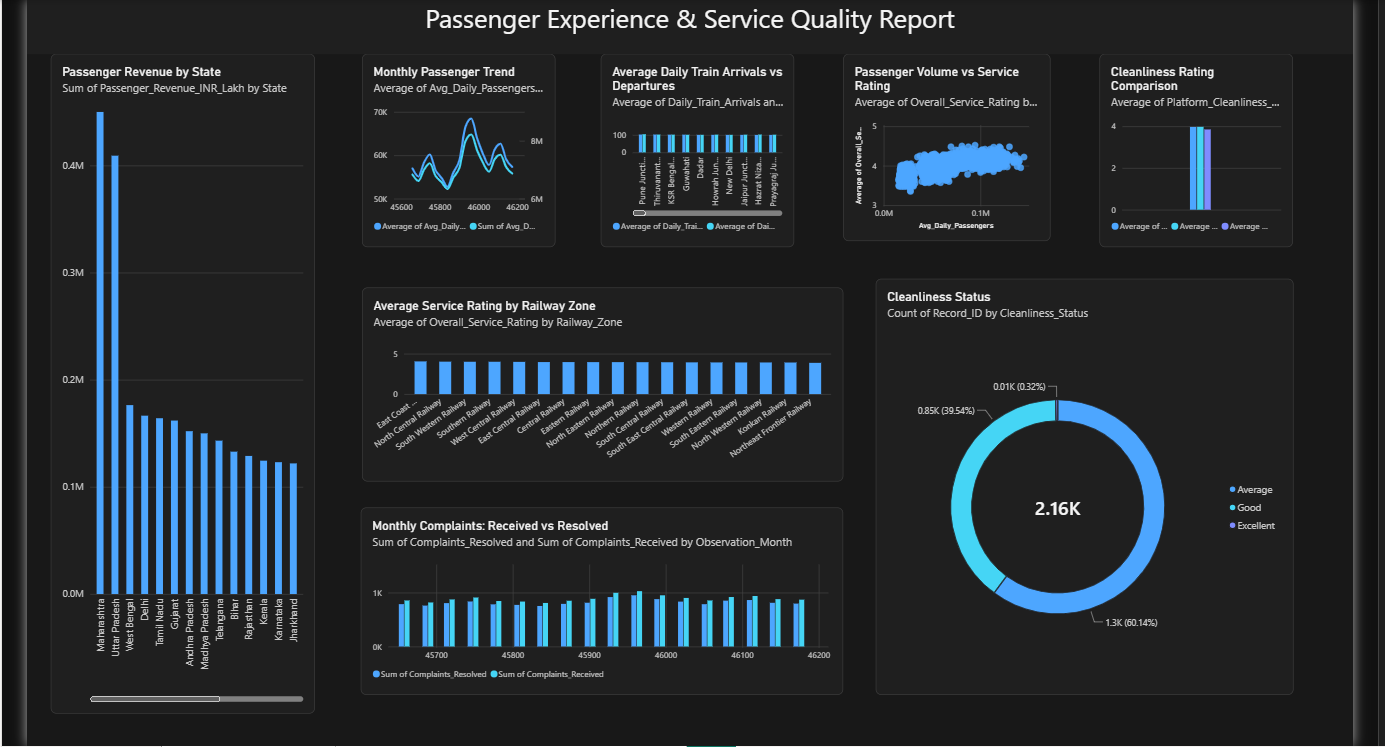

The dashboard page shown, as its layout file describes it:
{"tool":"powerbi","page":{"name":"Passenger Experience & Service Quality Report","canvas":[1920,1080],"ordinal":1},"visuals":[{"type":"clusteredColumnChart","title":"Passenger Revenue by State","fields":{"Category":["Station_Monthly_Data.State"],"Y":["Sum(Station_Monthly_Data.Passenger_Revenue_INR_Lakh)"]},"box":[34,78.7,382.8,955.4],"z":0},{"type":"clusteredColumnChart","title":"Monthly Complaints: Received vs Resolved","fields":{"Category":["Station_Monthly_Data.Observation_Month"],"Y":["Sum(Station_Monthly_Data.Complaints_Resolved)","Sum(Station_Monthly_Data.Complaints_Received)"]},"box":[483.2,734.7,698.5,271.4],"z":1000},{"type":"lineChart","title":"Monthly Passenger Trend","fields":{"Category":["Station_Monthly_Data.Observation_Month"],"Y":["Avg(Station_Monthly_Data.Avg_Daily_Passengers)"],"Y2":["Sum(Station_Monthly_Data.Avg_Daily_Passengers)"]},"box":[484.6,78.7,280,280],"z":2000},{"type":"clusteredColumnChart","title":"Cleanliness Rating Comparison","fields":{"Y":["Avg(Station_Monthly_Data.Platform_Cleanliness_Rating)","Avg(Station_Monthly_Data.Waiting_Room_Rating)","Avg(Station_Monthly_Data.Washroom_Cleanliness_Rating)"]},"box":[1552.7,78.7,280,280],"z":3000},{"type":"lineClusteredColumnComboChart","title":"Average Daily Train Arrivals vs Departures","fields":{"Category":["Station_Master.Station_Name"],"Y":["Avg(Station_Monthly_Data.Daily_Train_Arrivals)","Avg(Station_Monthly_Data.Daily_Train_Departures)"]},"box":[830.4,78.7,280,280],"z":4000},{"type":"scatterChart","title":"Passenger Volume vs Service Rating","fields":{"X":["Station_Monthly_Data.Avg_Daily_Passengers"],"Y":["Avg(Station_Monthly_Data.Overall_Service_Rating)"]},"box":[1182.3,78.7,299.8,271.2],"z":5000},{"type":"donutChart","title":"Cleanliness Status","fields":{"Category":["Station_Monthly_Data.Cleanliness_Status"],"Y":["CountNonNull(Station_Monthly_Data.Record_ID)"]},"box":[1228.8,403.6,604.4,602.6],"z":6000},{"type":"clusteredColumnChart","title":"Average Service Rating by Railway Zone","fields":{"Category":["Station_Master.Railway_Zone"],"Y":["Avg(Station_Monthly_Data.Overall_Service_Rating)"]},"box":[485,416.2,696.7,280.5],"z":7000},{"type":"textbox","box":[0,0,1920,78.7],"z":9000}]}

Visuals, with their boxes on the page's 1920x1080 design canvas (x1, y1, x2, y2). These are canvas units, not pixel positions in the 1385x747 screenshot, which may show the page scaled, cropped or inside an application window:
"Passenger Revenue by State" clusteredColumnChart: l=34, t=79, r=417, b=1034
"Monthly Complaints: Received vs Resolved" clusteredColumnChart: l=483, t=735, r=1182, b=1006
"Monthly Passenger Trend" lineChart: l=485, t=79, r=765, b=359
"Cleanliness Rating Comparison" clusteredColumnChart: l=1553, t=79, r=1833, b=359
"Average Daily Train Arrivals vs Departures" lineClusteredColumnComboChart: l=830, t=79, r=1110, b=359
"Passenger Volume vs Service Rating" scatterChart: l=1182, t=79, r=1482, b=350
"Cleanliness Status" donutChart: l=1229, t=404, r=1833, b=1006
"Average Service Rating by Railway Zone" clusteredColumnChart: l=485, t=416, r=1182, b=697
textbox: l=0, t=0, r=1920, b=79
